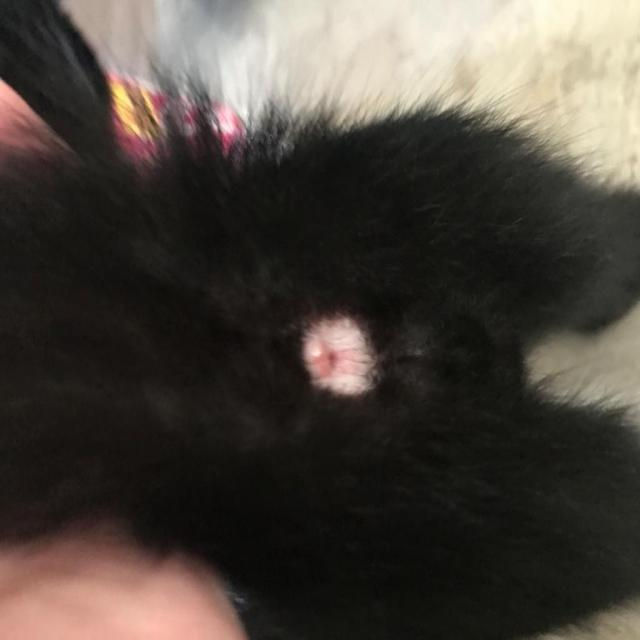cat-lump-and-bump: (298, 311, 385, 401)
